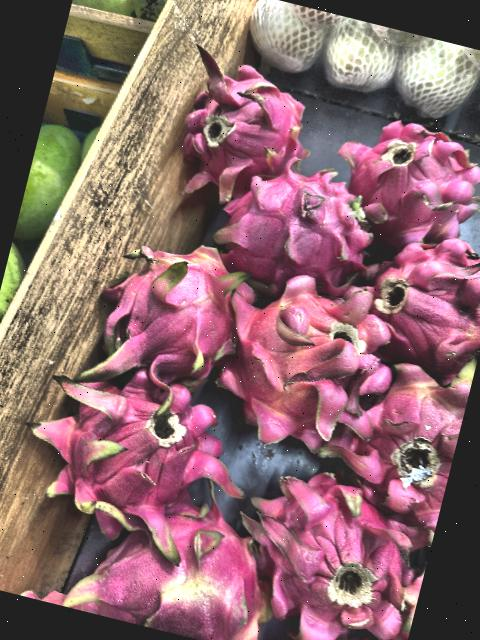buah-naga-belum-matang: (84, 487, 287, 640)
buah-naga-matang: (220, 458, 429, 640), (25, 357, 225, 536), (208, 258, 386, 437), (81, 222, 252, 398), (328, 346, 474, 538), (208, 150, 388, 296), (345, 210, 480, 384), (160, 39, 319, 182), (320, 101, 480, 242)
